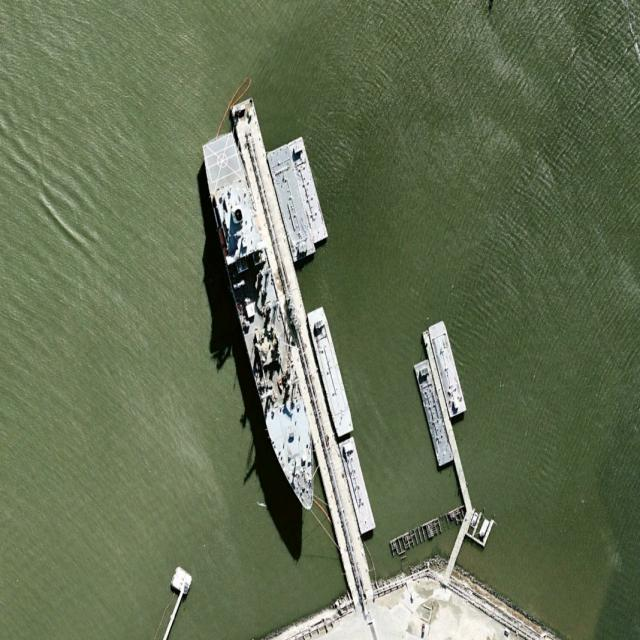Commander: (196, 128, 328, 519)
